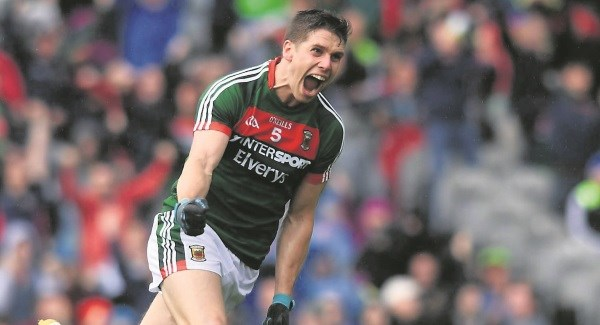player: (184, 10, 353, 318)
